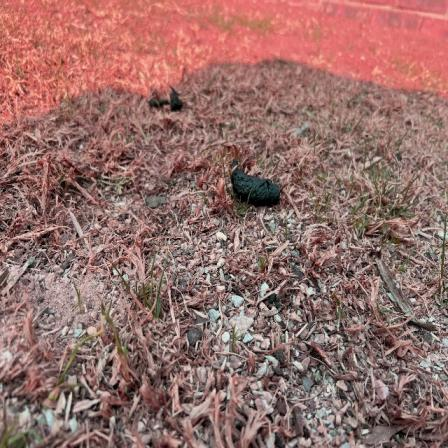dog-poop: (226, 159, 296, 206)
